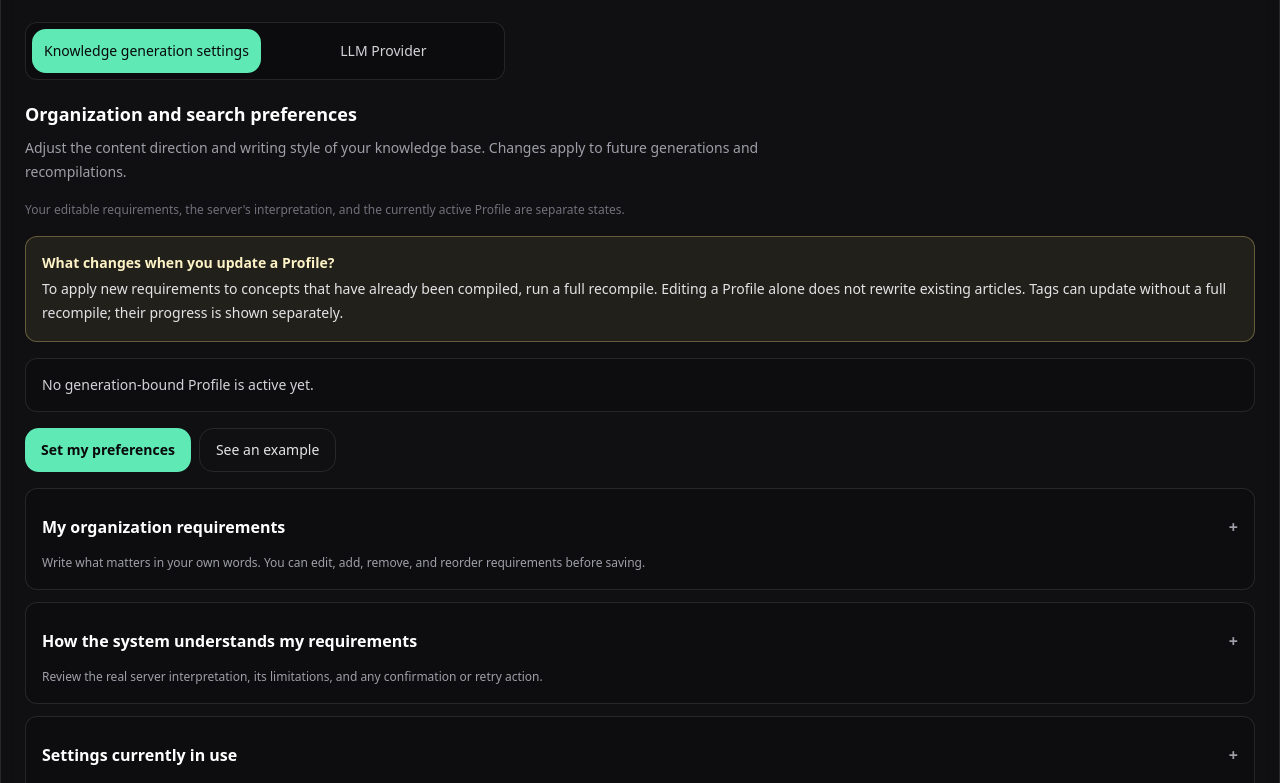
Test: LWC-211 Project Profile › saves ordered requirements with the server revision and reports the three-minute pending schedule
Click the button "My organization requirements +". click: (164, 527)
box: [42, 505, 1238, 549]
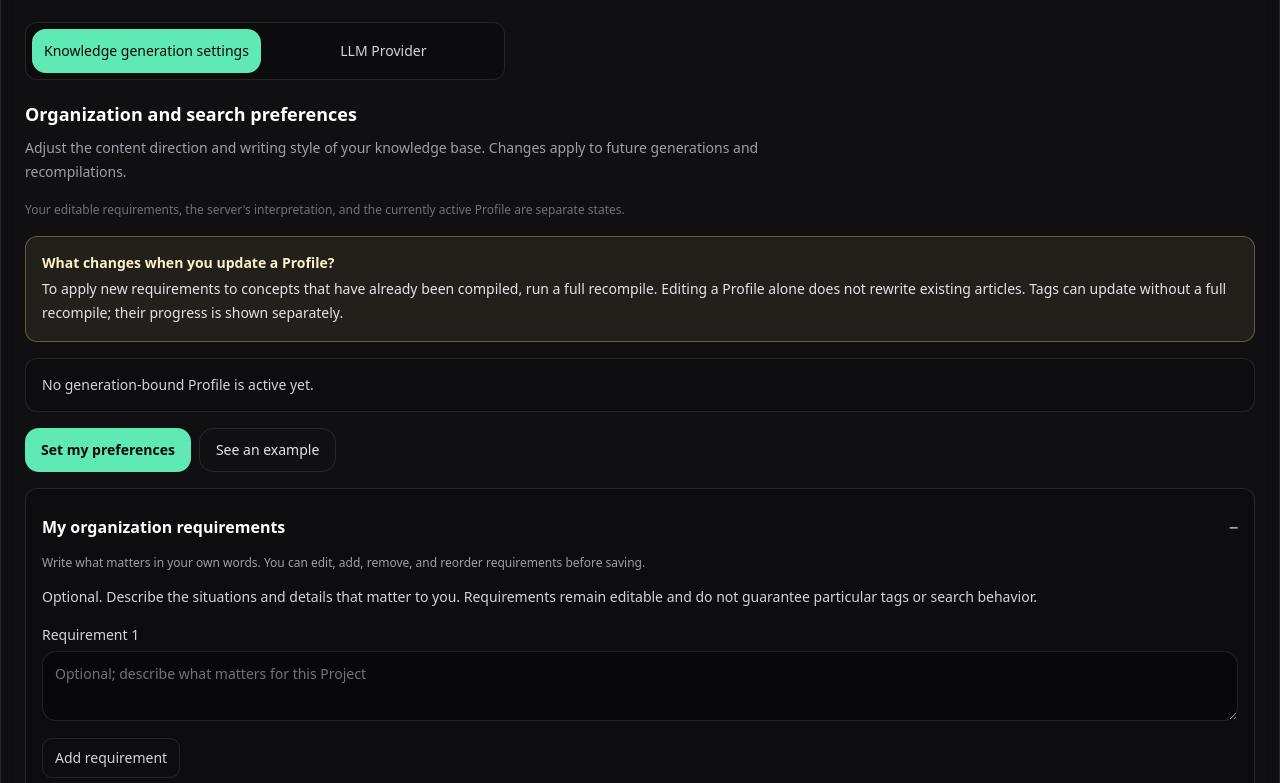
expect the text "To apply new requirements to concepts that have already been compiled, run a full recompile" is shown: met, box [42, 279, 1226, 322]
expect the text "Requirements remain editable and do not guarantee particular tags or search behavior" is shown: met, box [42, 587, 1037, 606]
expect the text box labelled "Requirement 1" is empty: met
Type "  invoice source  " into the text box labelled "Requirement 1". click: (640, 686)
box: [42, 651, 1238, 721]
(page scrolled)
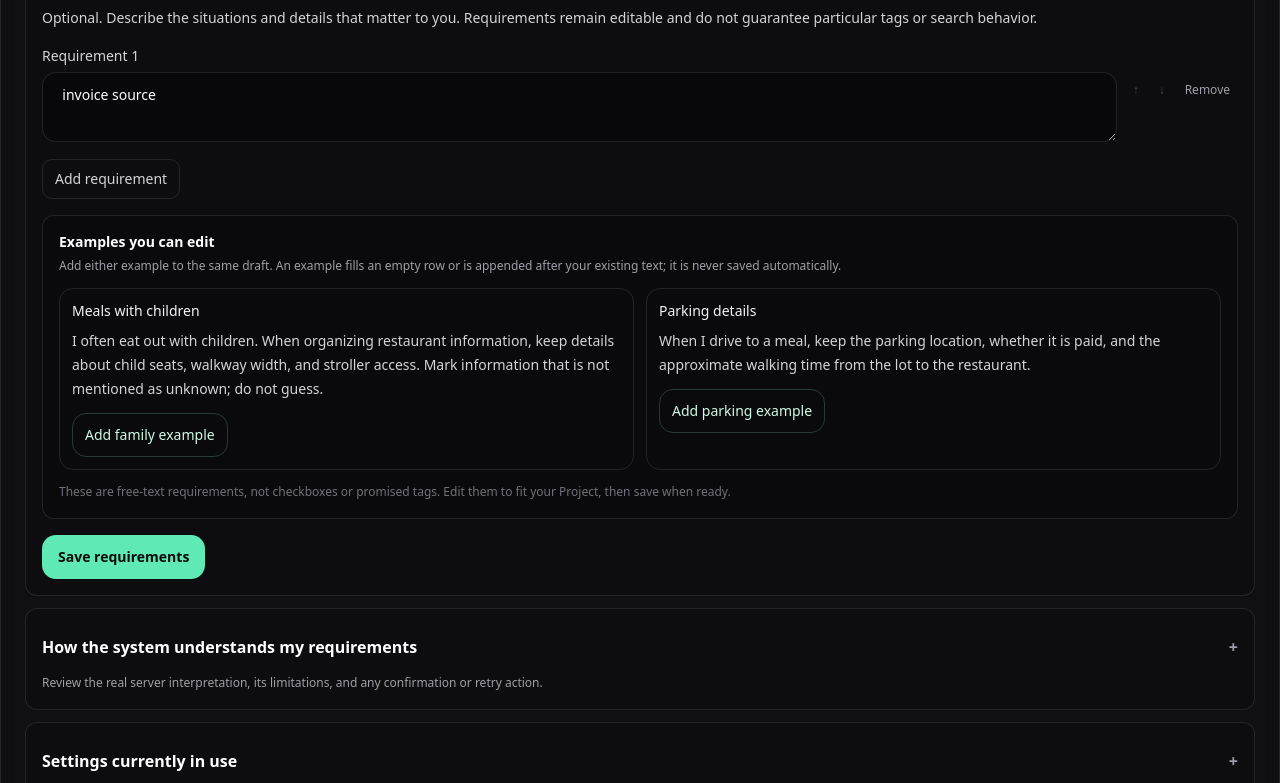
Click the button "Save requirements". click: (124, 557)
box: [42, 535, 205, 579]
(page scrolled)
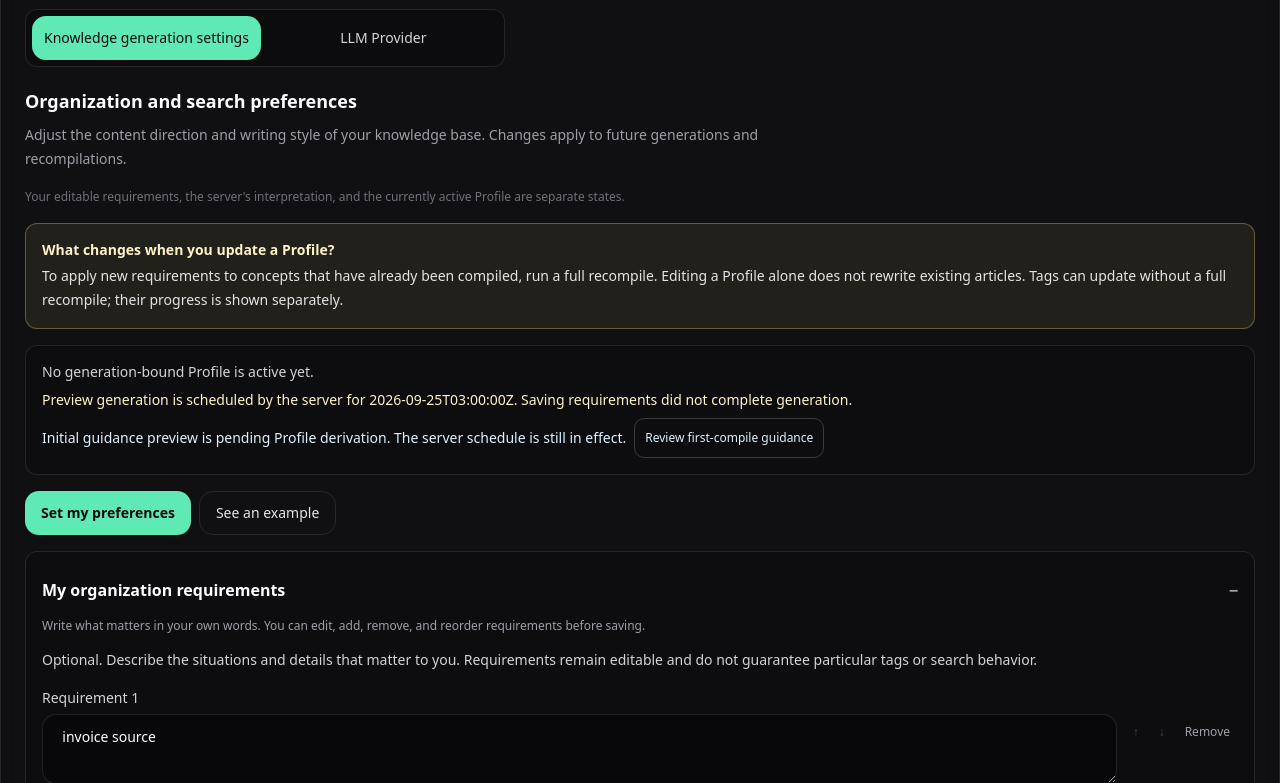
expect the text "scheduled by the server" is shown: met, box [42, 390, 366, 409]
expect the text "2026-09-25T03:00:00Z" is shown: met, box [369, 390, 514, 409]
